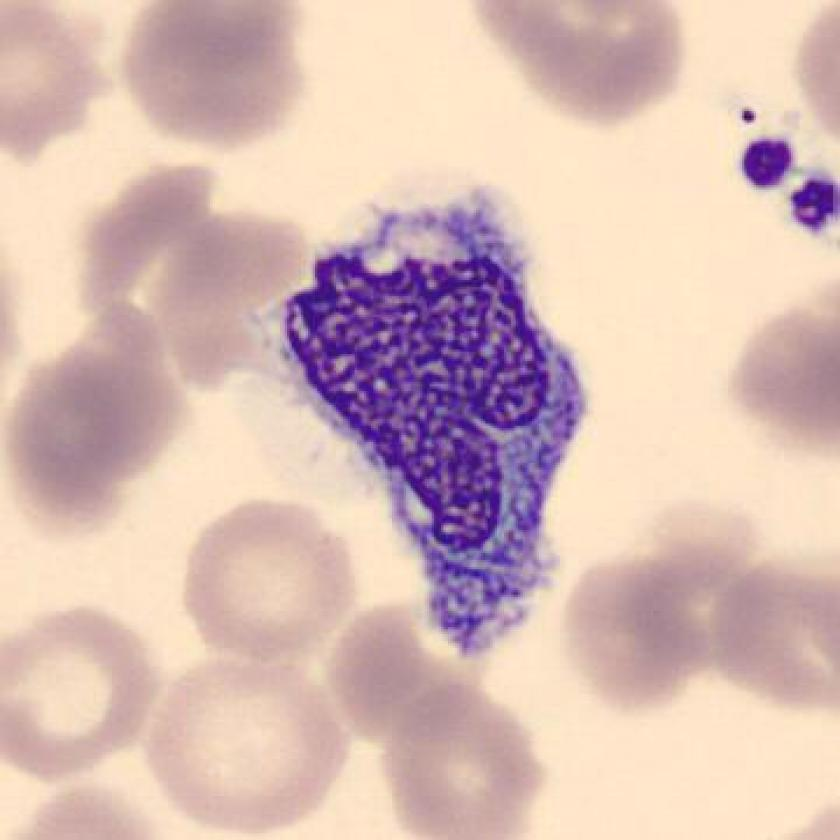monocyte: (251, 163, 608, 670)
